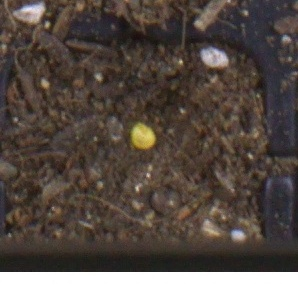chilli seed: (130, 121, 157, 150)
